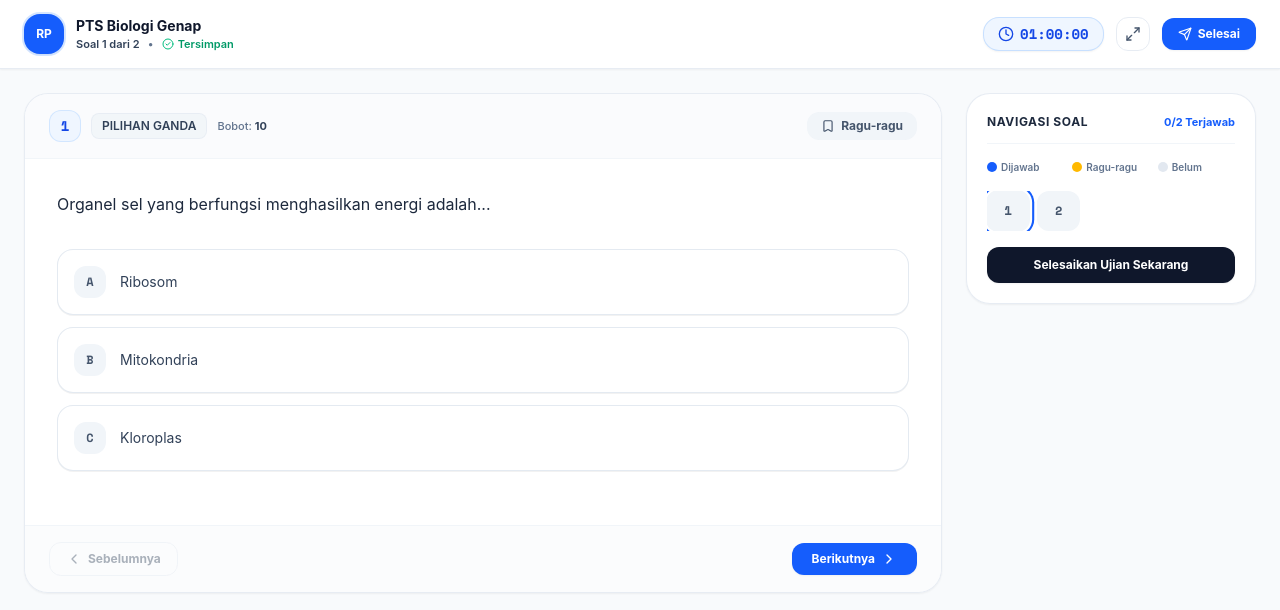
it: M14 CBT — Presentation Views (Academic Glass UI v1.2) › allows selecting choice and navigating questions
// Select option B
Click the text "Mitokondria" at [159, 359], box [120, 351, 198, 368]
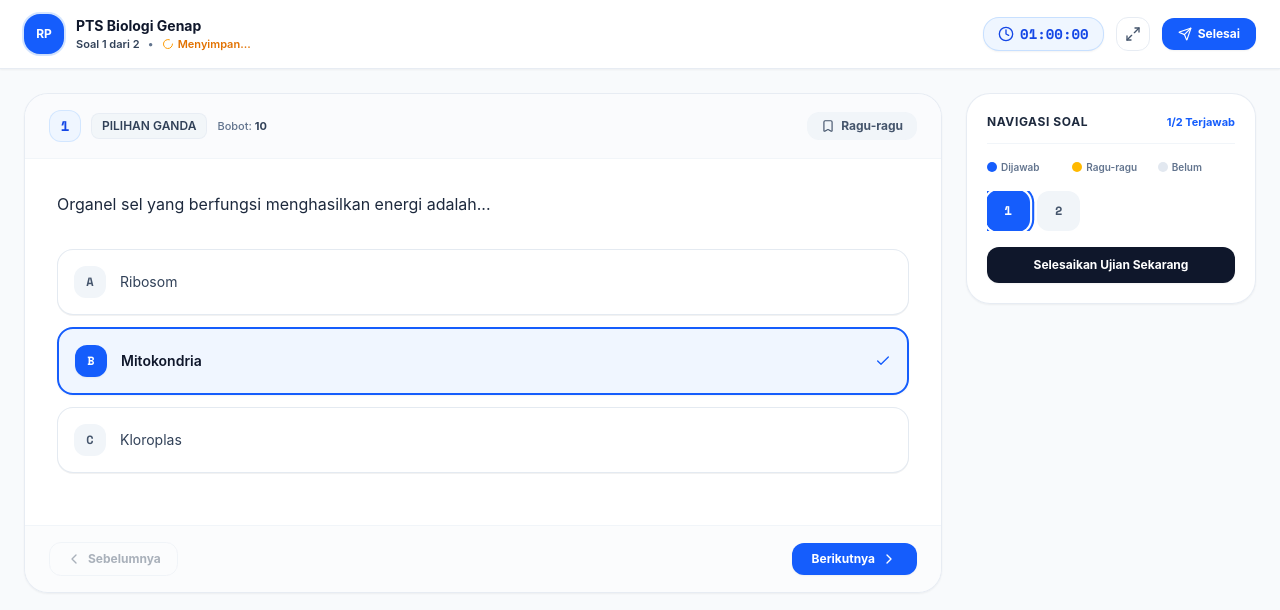
// Toggle Ragu-ragu (first one is the button)
Click the button "Ragu-ragu" at [862, 126], box [807, 112, 917, 140]
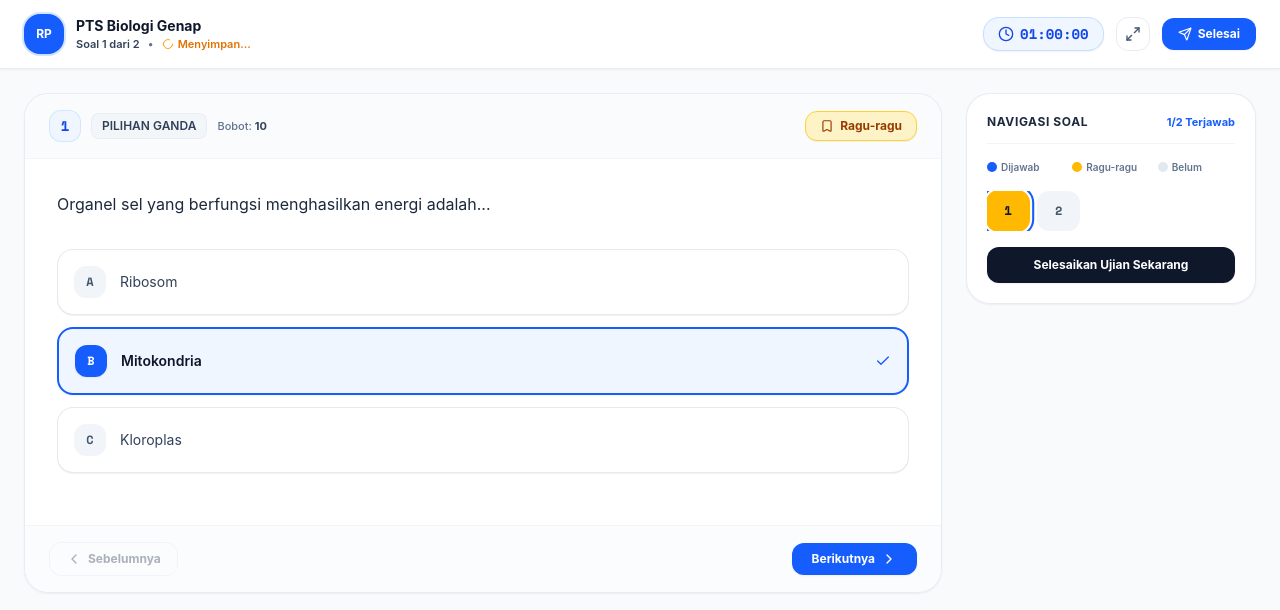
// Navigate to next question
Click the button "Berikutnya" at [854, 559], box [792, 543, 917, 575]
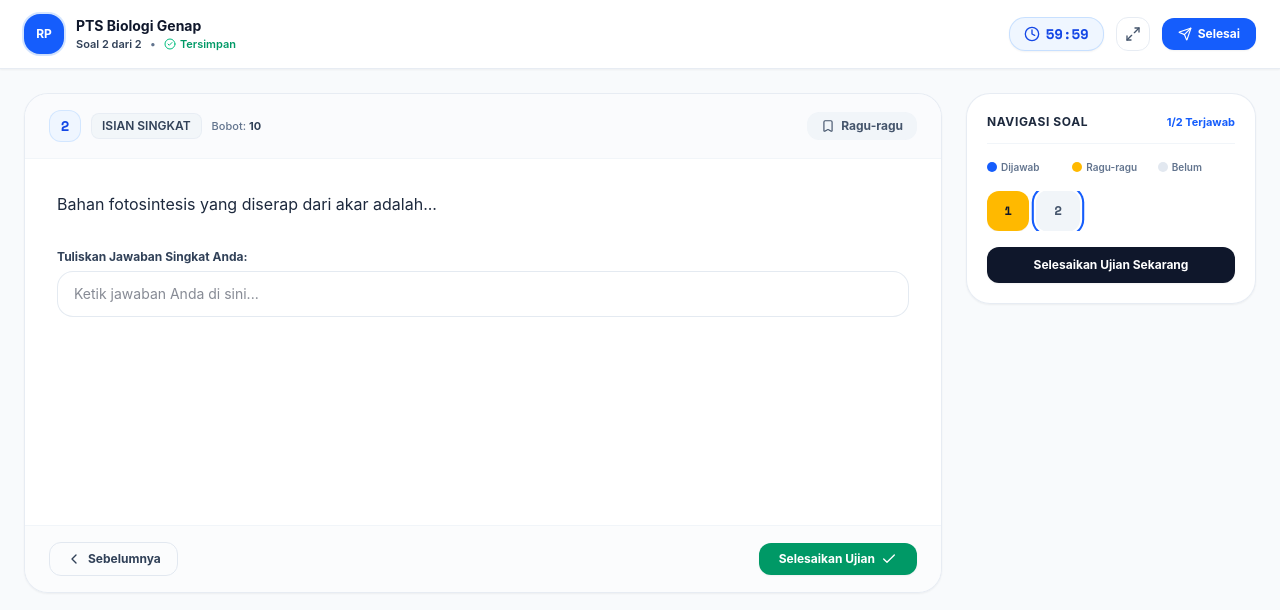
Expected: the text "Bahan fotosintesis yang diserap dari akar adalah..." is shown, [57, 194, 437, 214]
